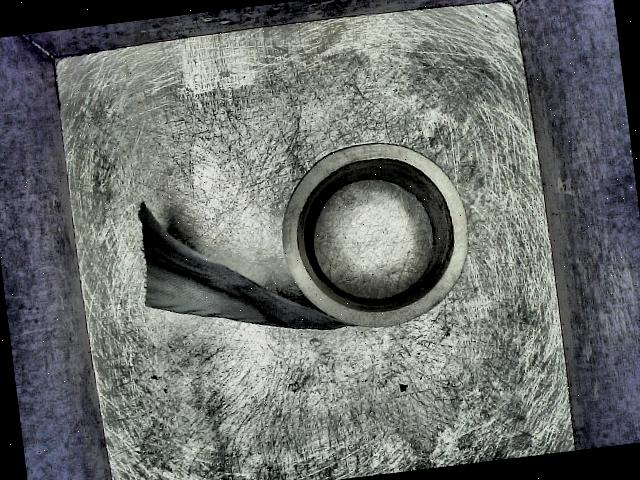Paper: (102, 35, 514, 435)
